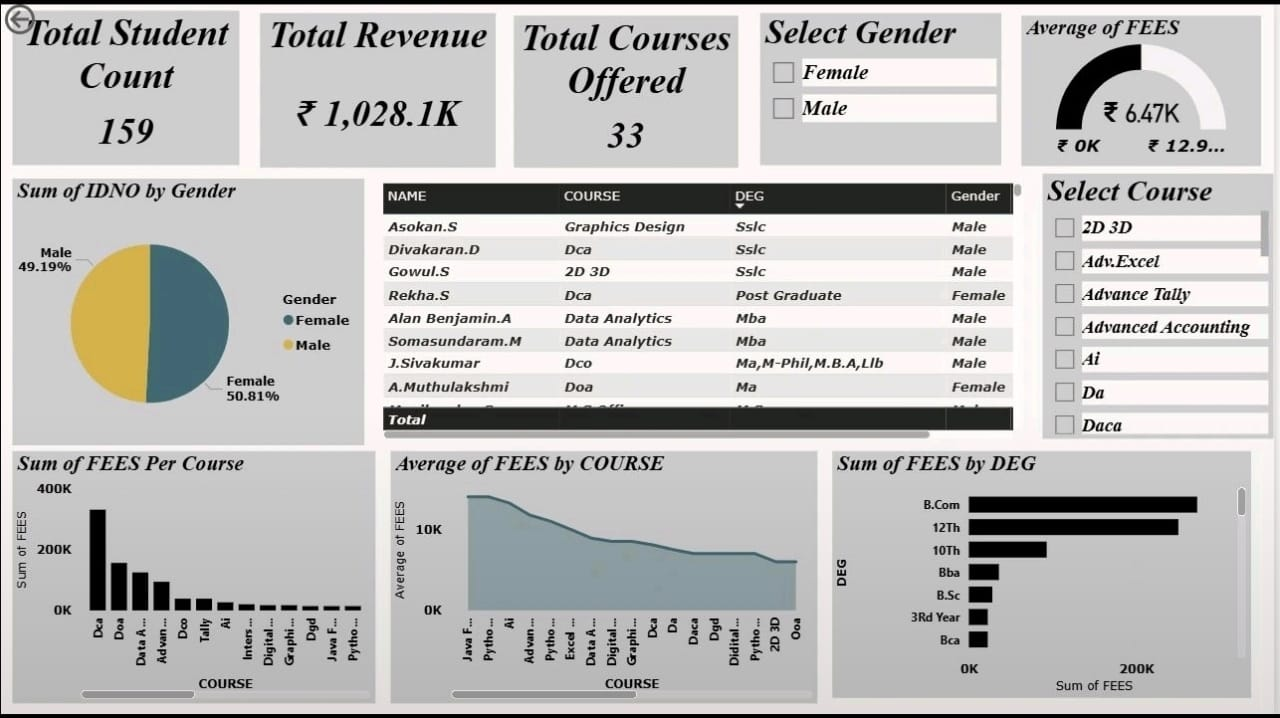

Layout of this report page (visuals, bound fields, positions):
{"tool":"powerbi","page":{"name":"Page 1","canvas":[1280,720],"ordinal":0},"visuals":[{"type":"card","title":"Total Student Count","fields":{"Values":["CountNonNull(Sheet2.IDNO)"]},"box":[12.8,11.4,228.1,155.4],"z":0},{"type":"card","title":"Total Revenue","fields":{"Values":["Sum(Sheet2.FEES)"]},"box":[260.8,14.3,236.6,155.4],"z":1000},{"type":"card","title":"Total Courses Offered","fields":{"Values":["Count(Sheet2.COURSE)"]},"box":[516,15.7,225.2,152.5],"z":2000},{"type":"slicer","title":"Select Course","fields":{"Values":["Sheet2.COURSE"]},"box":[1047.7,175.3,232.3,266.5],"z":3000},{"type":"slicer","title":"Select Gender","fields":{"Values":["Sheet2.Gender"]},"box":[764,14.3,242.3,152.5],"z":4000},{"type":"clusteredColumnChart","title":"Sum of FEES Per Course","fields":{"Category":["Sheet2.COURSE"],"Y":["Sum(Sheet2.FEES)"]},"box":[12.8,453.3,364.9,253.7],"z":5000},{"type":"clusteredBarChart","fields":{"Y":["Sum(Sheet2.FEES)"],"Category":["Sheet2.DEG"]},"box":[836.7,453.3,420.5,248],"z":6000},{"type":"areaChart","fields":{"Category":["Sheet2.COURSE"],"Y":["Avg(Sheet2.FEES)"]},"box":[392,453.3,429,253.7],"z":8000},{"type":"tableEx","fields":{"Values":["Sheet2.NAME","Sheet2.COURSE","Sheet2.DEG","Sheet2.Gender","Sum(Sheet2.FEES)"]},"box":[379.2,179.6,652.8,266.5],"z":9000},{"type":"actionButton","box":[0,0,100,40],"z":10000},{"type":"gauge","fields":{"Y":["Avg(Sheet2.FEES)"]},"box":[1026.3,15.7,240.9,151.1],"z":11000},{"type":"pieChart","fields":{"Category":["Sheet2.Gender"],"Y":["Sum(Sheet2.IDNO)"]},"box":[12.8,179.6,353.5,268],"z":11001}]}

Visuals, with their boxes in screenshot pixels (x1, y1, x2, y2), scaled from the page's 1280x720 canvas onto the 1280x718 screenshot:
"Total Student Count" card: (x1=13, y1=11, x2=241, y2=166)
"Total Revenue" card: (x1=261, y1=14, x2=497, y2=169)
"Total Courses Offered" card: (x1=516, y1=16, x2=741, y2=168)
"Select Course" slicer: (x1=1048, y1=175, x2=1279, y2=441)
"Select Gender" slicer: (x1=764, y1=14, x2=1006, y2=166)
"Sum of FEES Per Course" clusteredColumnChart: (x1=13, y1=452, x2=378, y2=705)
clusteredBarChart - Sum(Sheet2.FEES) x Sheet2.DEG: (x1=837, y1=452, x2=1257, y2=699)
areaChart - Sheet2.COURSE x Avg(Sheet2.FEES): (x1=392, y1=452, x2=821, y2=705)
tableEx - Sheet2.NAME x Sheet2.COURSE: (x1=379, y1=179, x2=1032, y2=445)
actionButton: (x1=0, y1=0, x2=100, y2=40)
gauge - Avg(Sheet2.FEES): (x1=1026, y1=16, x2=1267, y2=166)
pieChart - Sheet2.Gender x Sum(Sheet2.IDNO): (x1=13, y1=179, x2=366, y2=446)
